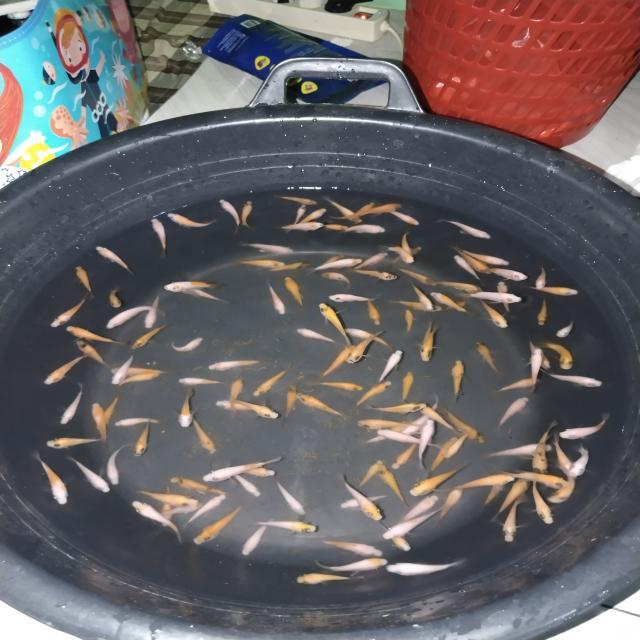nila: (128, 497, 190, 548), (378, 504, 448, 542), (192, 502, 249, 545), (200, 456, 284, 484), (485, 476, 532, 524), (410, 462, 468, 499), (33, 452, 70, 508), (384, 556, 470, 578), (341, 474, 381, 521), (310, 536, 386, 560), (318, 300, 354, 350), (417, 402, 464, 440), (444, 407, 489, 446), (530, 420, 560, 478), (403, 394, 445, 434), (310, 556, 390, 576), (71, 456, 112, 495), (397, 492, 444, 526), (544, 466, 582, 508), (252, 362, 294, 400), (427, 289, 481, 318), (447, 243, 493, 277), (43, 353, 90, 386), (559, 412, 610, 442), (182, 494, 227, 528), (346, 328, 386, 366), (102, 306, 168, 329), (47, 293, 88, 330), (296, 392, 346, 422), (376, 429, 444, 451), (238, 519, 276, 558), (318, 344, 358, 381), (483, 440, 556, 460), (361, 420, 413, 448), (498, 468, 570, 488), (532, 340, 580, 370), (374, 520, 416, 554), (528, 476, 556, 526), (67, 324, 123, 349), (436, 216, 494, 240), (92, 243, 134, 276), (413, 418, 437, 474), (450, 473, 516, 493), (169, 476, 228, 498), (426, 434, 458, 474), (500, 497, 526, 546), (288, 572, 372, 587), (378, 465, 408, 507), (495, 395, 531, 430), (58, 383, 86, 428), (457, 244, 514, 266), (275, 478, 307, 517), (188, 416, 220, 455), (226, 398, 282, 420), (129, 323, 172, 351), (248, 518, 323, 534), (343, 328, 397, 350), (478, 262, 531, 284), (430, 276, 488, 296), (104, 444, 130, 488), (136, 488, 199, 506), (436, 484, 465, 523), (353, 382, 394, 409), (552, 436, 578, 478), (540, 371, 604, 388), (202, 357, 266, 374), (108, 352, 140, 386), (352, 457, 383, 492), (476, 298, 511, 329), (331, 200, 378, 223), (352, 416, 424, 431), (475, 340, 505, 376), (292, 326, 346, 346), (165, 210, 218, 230), (76, 338, 110, 369), (520, 280, 584, 296), (238, 239, 298, 256), (90, 402, 113, 446), (339, 492, 389, 512), (391, 438, 422, 470), (216, 198, 242, 236), (310, 256, 364, 274), (395, 266, 439, 288), (41, 436, 110, 450), (378, 347, 404, 384), (449, 253, 482, 282), (491, 378, 544, 396), (212, 398, 268, 415), (354, 200, 404, 219), (326, 196, 361, 223), (98, 391, 125, 426), (449, 355, 469, 402), (390, 298, 448, 314), (133, 414, 153, 460), (290, 207, 326, 232), (73, 264, 99, 298), (368, 401, 430, 415), (385, 204, 421, 228), (178, 387, 198, 430), (524, 338, 550, 371), (526, 347, 545, 392), (419, 325, 444, 359), (140, 292, 162, 330), (566, 446, 590, 480), (156, 484, 174, 529), (411, 280, 436, 312), (263, 260, 313, 276), (266, 282, 288, 318), (160, 280, 226, 292), (441, 434, 469, 462), (482, 478, 508, 508), (112, 415, 164, 430), (282, 276, 306, 308), (150, 214, 168, 256), (383, 243, 417, 265), (231, 474, 262, 498), (116, 372, 162, 388), (354, 251, 389, 272), (308, 380, 368, 392), (282, 382, 300, 422), (494, 279, 514, 315), (182, 288, 226, 304), (169, 333, 206, 352), (227, 376, 245, 414), (534, 295, 554, 329), (326, 292, 382, 304), (420, 318, 435, 362), (460, 292, 526, 302), (398, 368, 416, 404), (388, 246, 424, 264), (233, 258, 287, 270), (280, 220, 326, 234), (276, 192, 322, 206), (286, 203, 309, 230), (344, 225, 388, 239), (352, 268, 399, 281), (154, 504, 204, 516), (108, 365, 167, 375), (174, 374, 223, 386), (320, 270, 350, 289), (556, 316, 577, 342), (365, 297, 382, 328), (532, 262, 548, 290), (318, 252, 346, 267), (242, 198, 254, 232), (402, 308, 416, 337), (236, 466, 276, 476), (108, 286, 124, 310), (440, 300, 470, 312), (400, 231, 412, 258), (316, 223, 351, 231)
